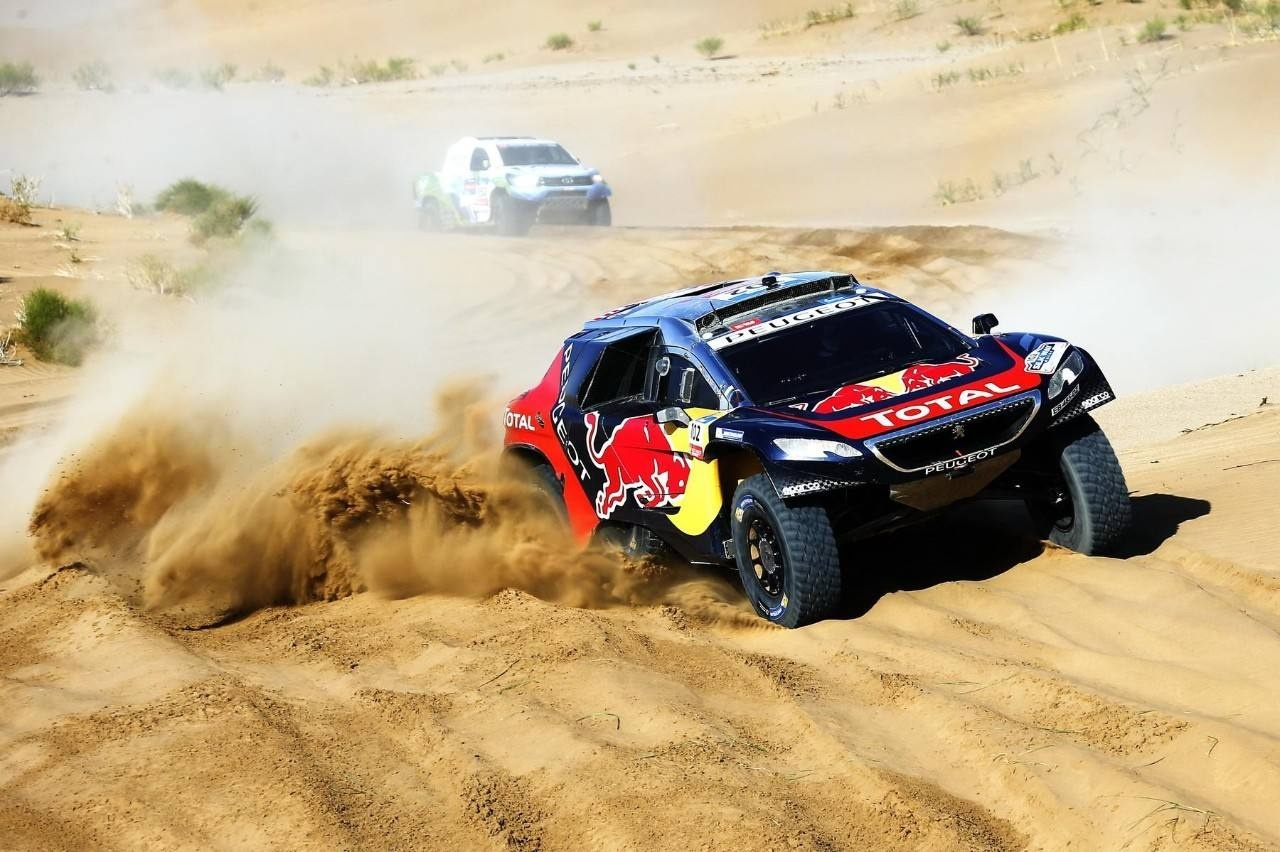racing car: (438, 288, 1163, 600), (398, 123, 623, 258)
